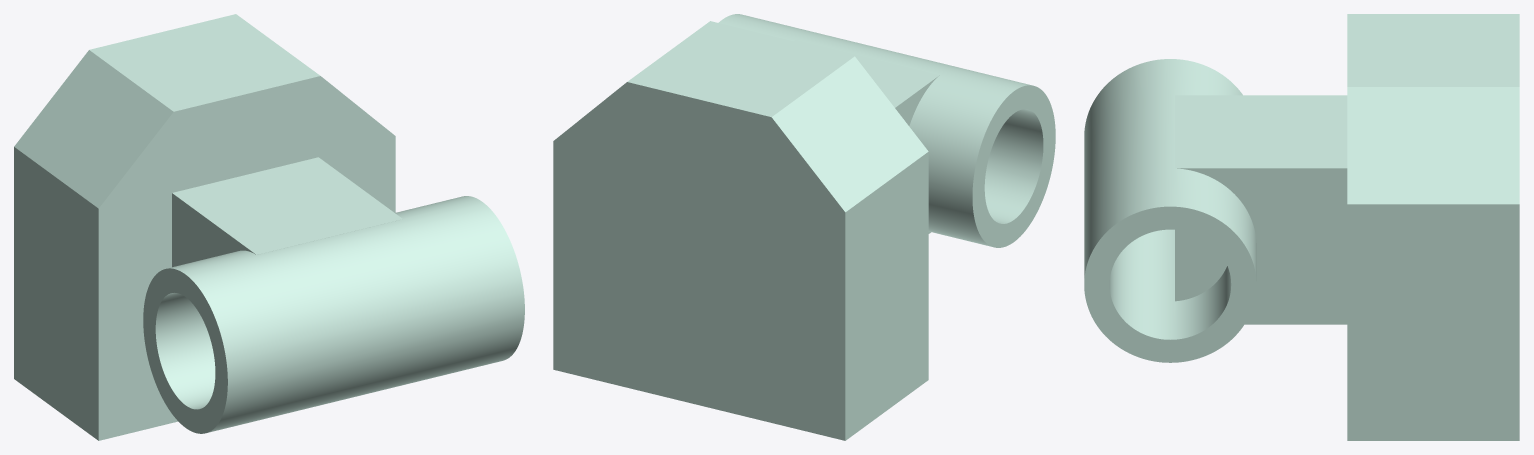
File: expected.gltf
3 views of the same model, side by side, from view 1: azimuth 30°, elevation 25°; view 2: azimuth 150°, elevation 25°; view 3: azimuth 270°, elevation 25° (orthographic). The views are drawn at different scales.
Visible parts, largest first — view 1: Renderer Node; view 2: Renderer Node; view 3: Renderer Node.
Part boxes in pixels (x1=…): Renderer Node: x1=14, y1=14, x2=524, y2=440; Renderer Node: x1=553, y1=14, x2=1055, y2=440; Renderer Node: x1=1084, y1=14, x2=1519, y2=440.
Size of the model in its own units: 0.6016 by 0.6016 by 0.75.
